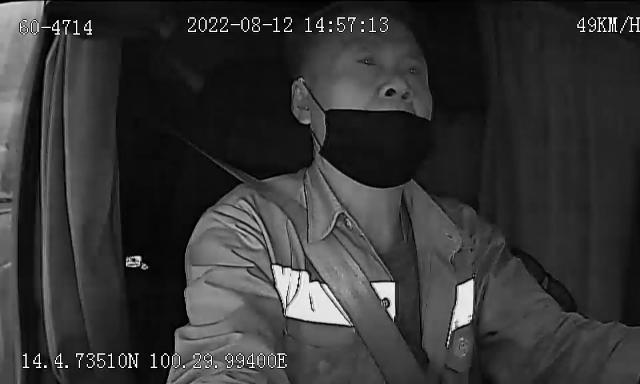SafeDriving: (371, 76, 411, 105), (397, 57, 427, 81)
Seatbelt: (200, 150, 424, 384)
